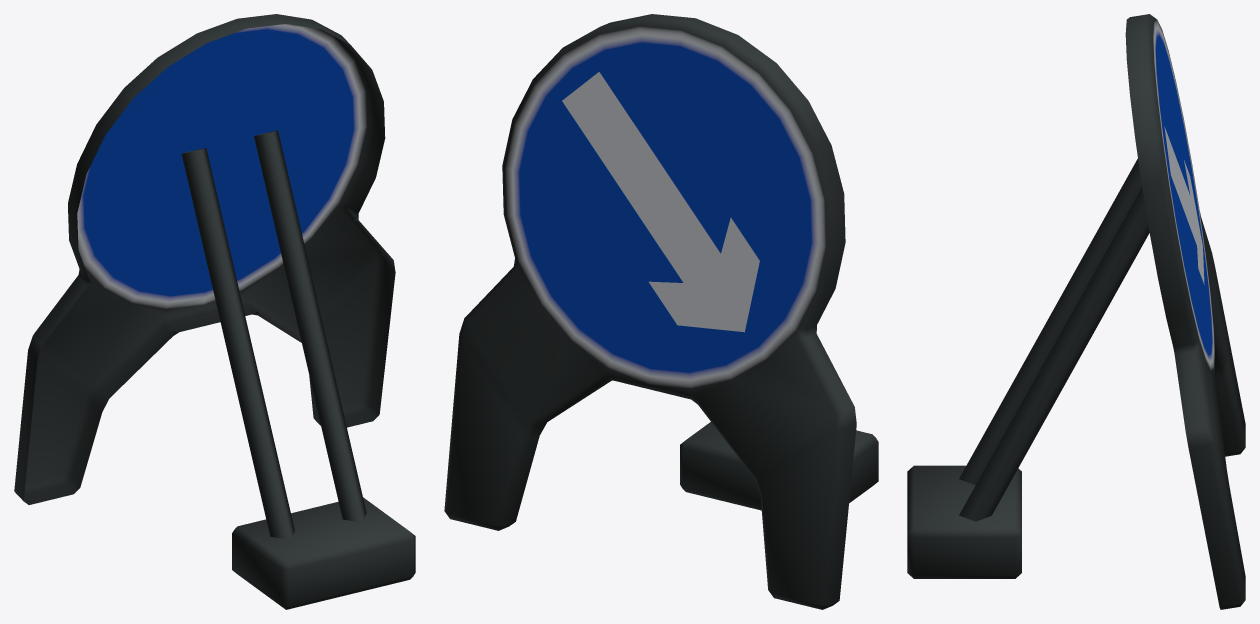
File: RoadWorksArrow.fbx
The picture shows the model from 3 angles, left to right: view 1: azimuth 30°, elevation 25°; view 2: azimuth 150°, elevation 25°; view 3: azimuth 270°, elevation 25°; orthographic projection. The views are drawn at different scales.
Parts seen in each view (by area): view 1: RoadWorksArrow; view 2: RoadWorksArrow; view 3: RoadWorksArrow.
Boxes of the visible parts, <box> form: RoadWorksArrow: <box>14,14,415,609</box>; RoadWorksArrow: <box>444,14,878,609</box>; RoadWorksArrow: <box>907,14,1245,609</box>.
Bounding box in the file's own units: 151 × 200 × 119.
